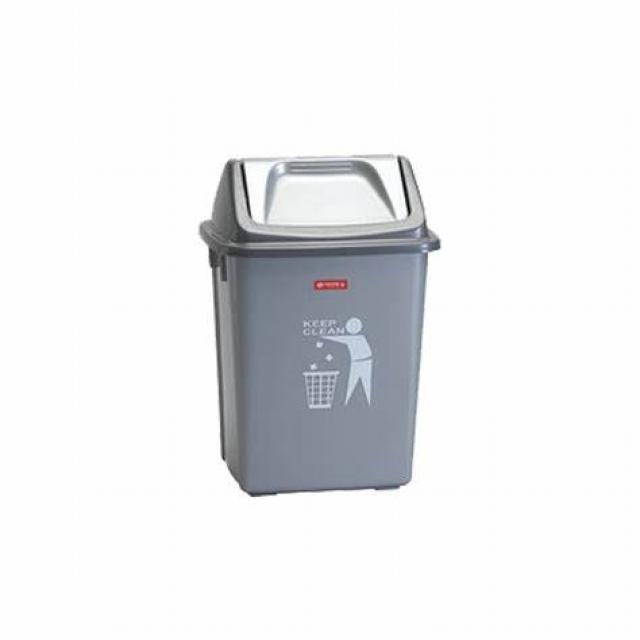garbage container: (201, 135, 466, 518)
